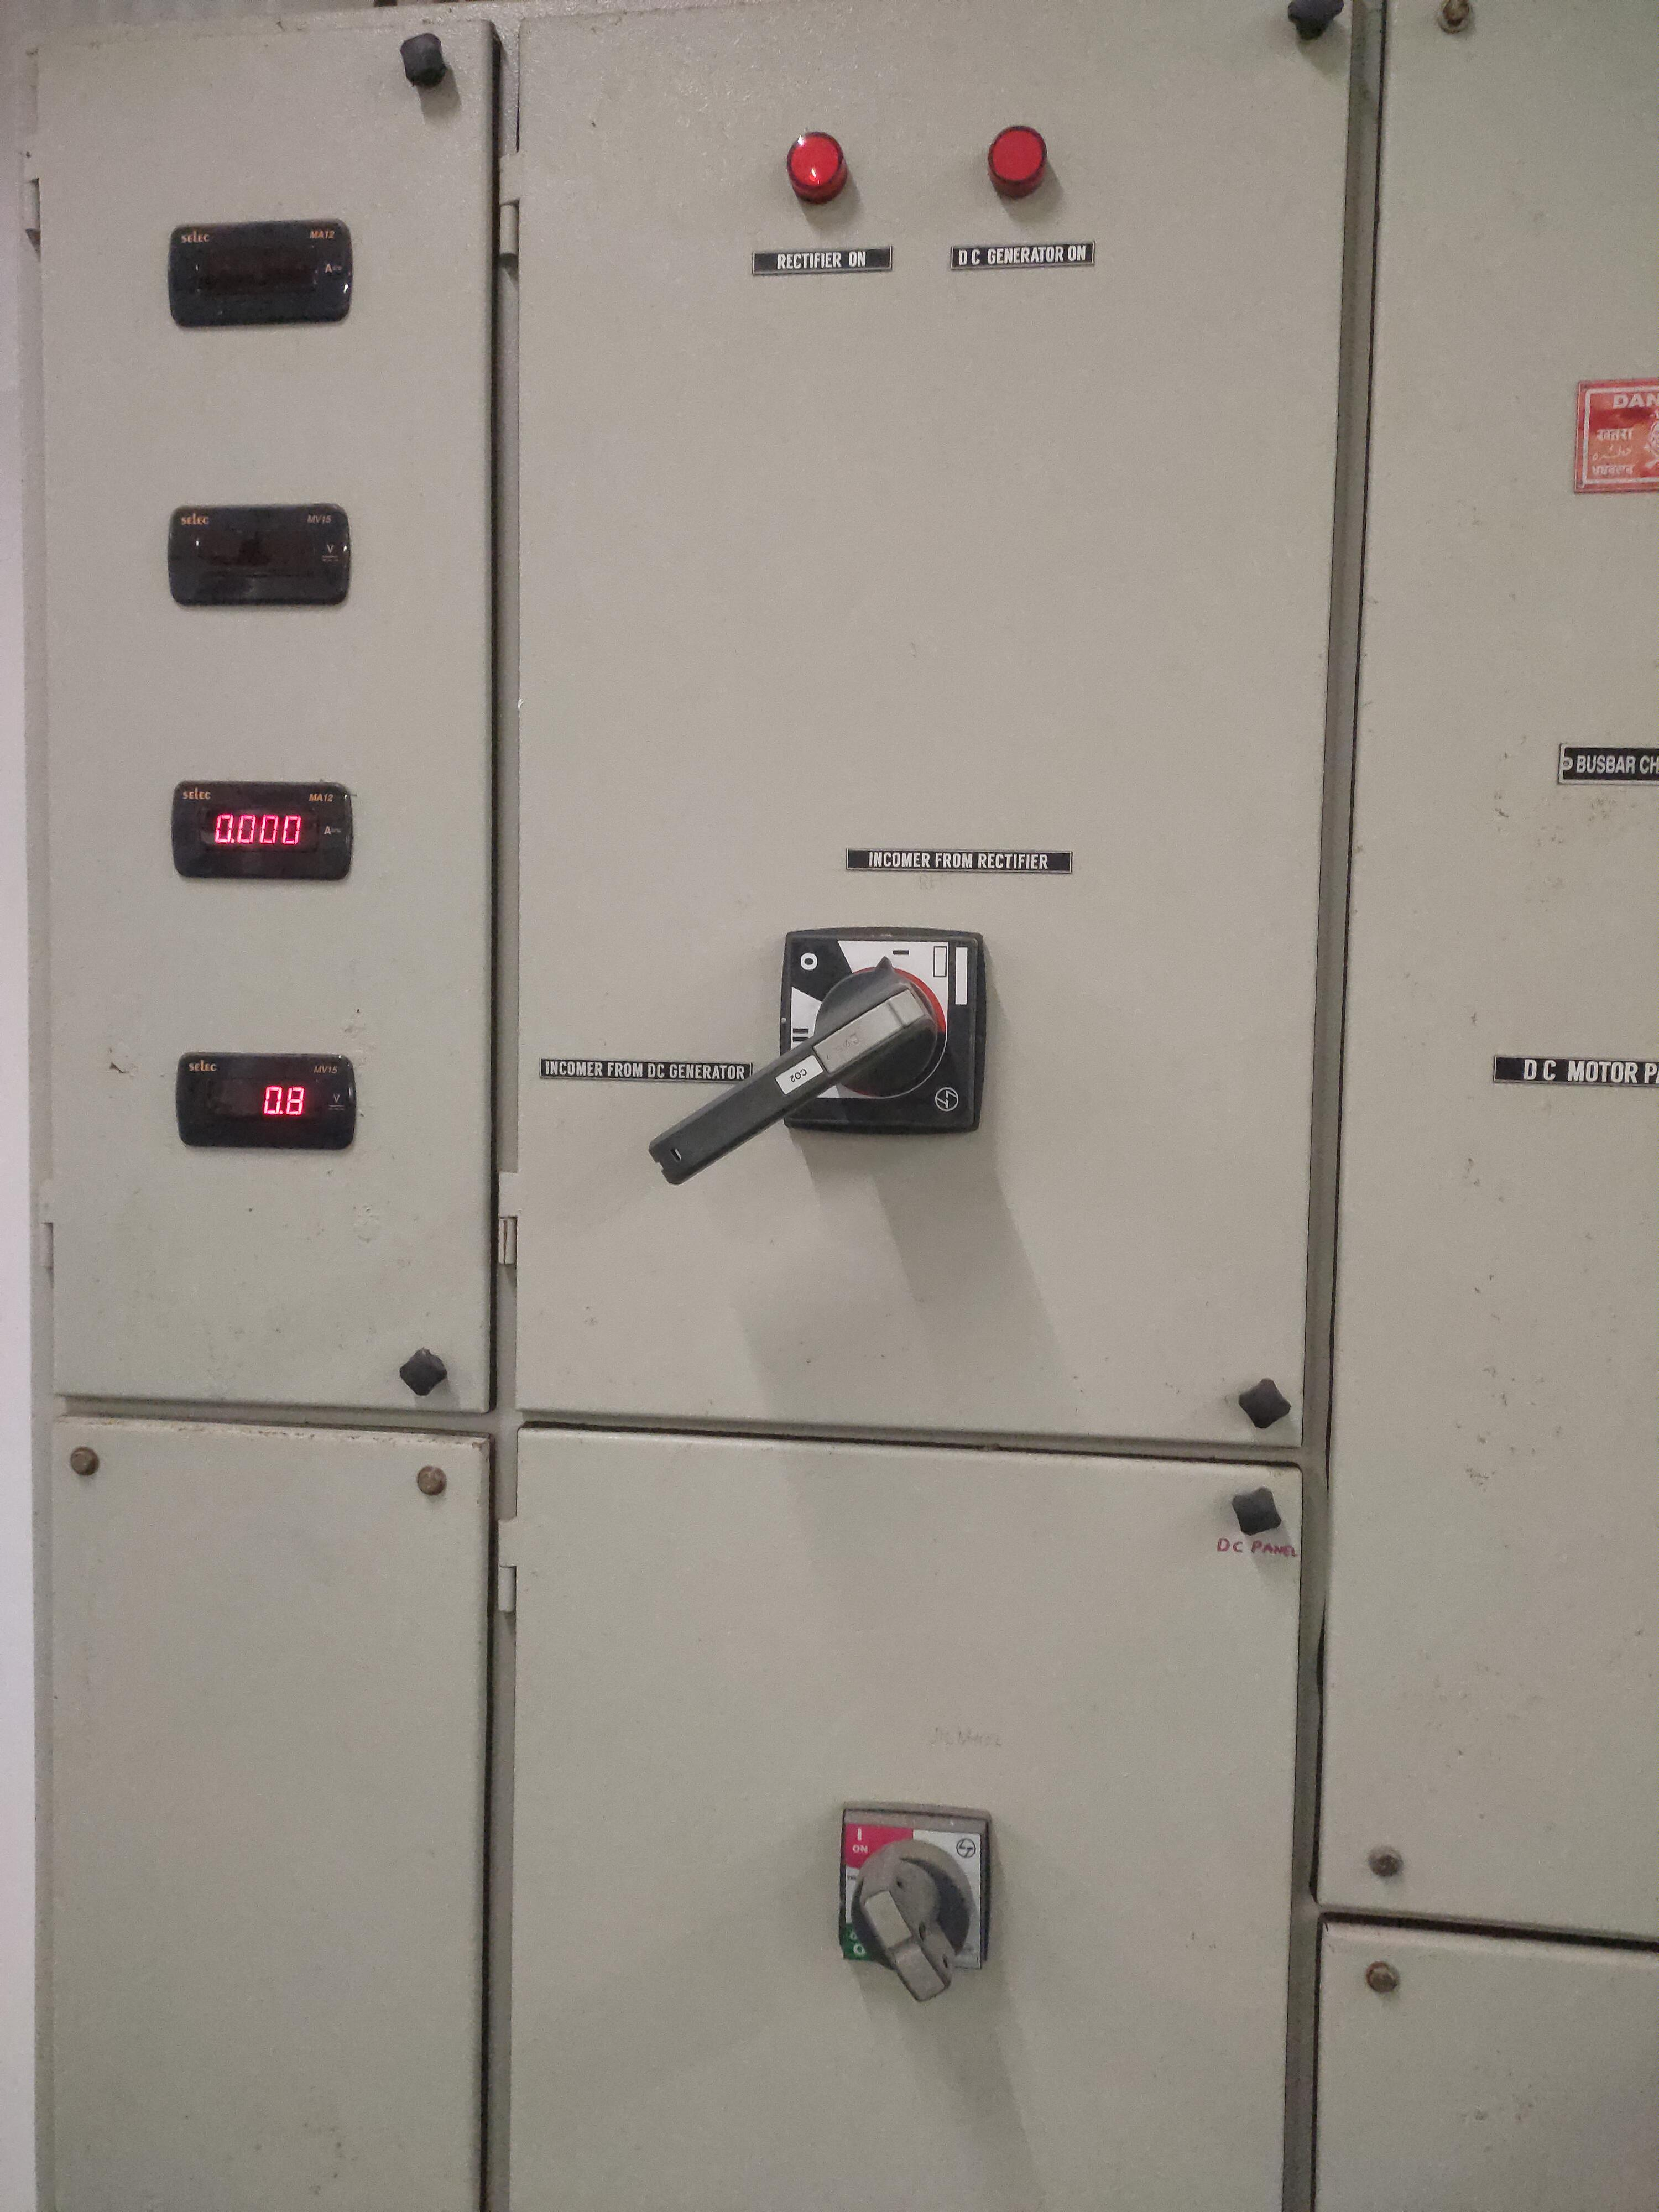Knob 1: (636, 873, 1058, 1204)
Knob 2: (807, 1757, 1046, 2036)
Light Indications: (746, 92, 1143, 282)
